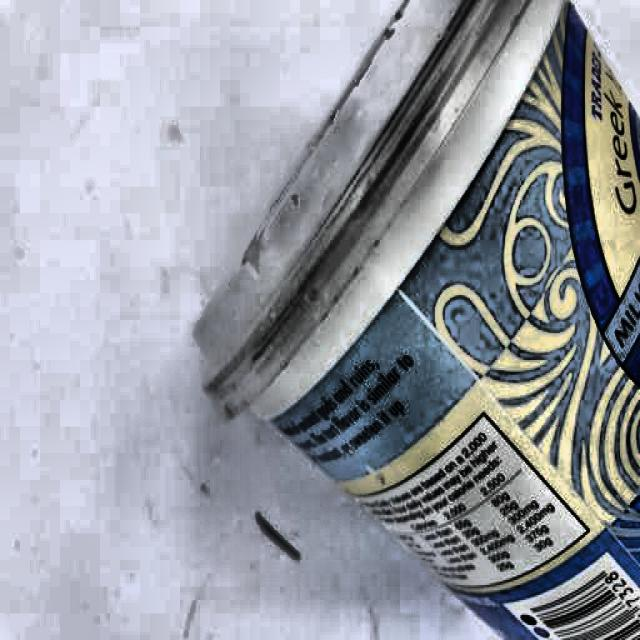plastic: (173, 1, 640, 556)
